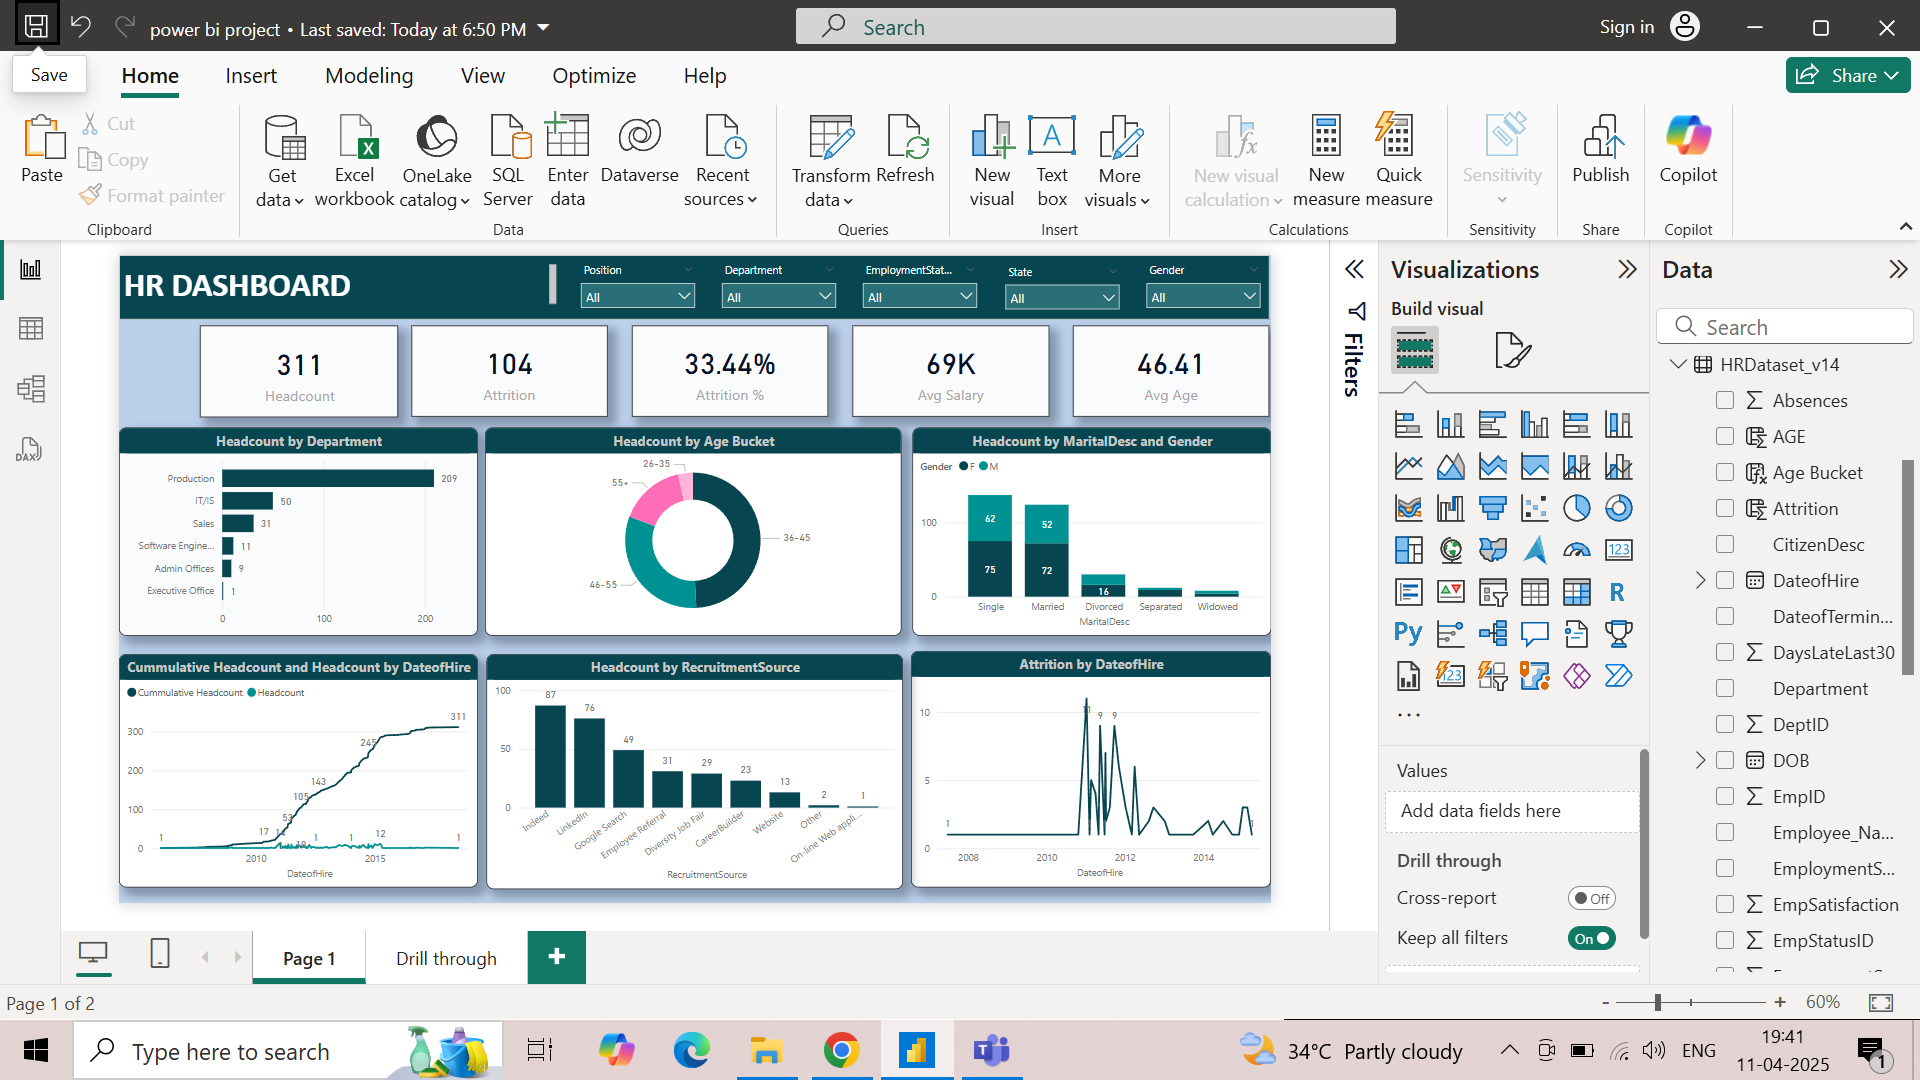

Layout of this report page (visuals, bound fields, positions):
{"tool":"powerbi","page":{"name":"Page 1","canvas":[1280,720],"ordinal":0},"visuals":[{"type":"shape","box":[0,0,1278.5,71.9],"z":0},{"type":"card","fields":{"Values":["measures (2).Headcount"]},"box":[90,78.3,220,101.7],"z":1000},{"type":"card","fields":{"Values":["measures (2).Attrition"]},"box":[325.7,79.1,218,101.6],"z":2000},{"type":"card","fields":{"Values":["measures (2).Attrition %"]},"box":[570.1,79.1,218,101],"z":3000},{"type":"card","fields":{"Values":["measures (2).Avg Salary"]},"box":[814.5,79.1,218.8,101.6],"z":4000},{"type":"card","fields":{"Values":["measures (2).Avg Age"]},"box":[1059.7,79.1,218,101],"z":5000},{"type":"clusteredBarChart","fields":{"Y":["measures (2).Headcount"],"Category":["HRDataset_v14.Department"]},"box":[0,191.8,398.6,231.3],"z":6000},{"type":"donutChart","fields":{"Y":["measures (2).Headcount"],"Category":["HRDataset_v14.Age Bucket"]},"box":[406.4,191.8,462.6,231.3],"z":7000},{"type":"columnChart","fields":{"Category":["HRDataset_v14.MaritalDesc"],"Y":["measures (2).Headcount"],"Series":["HRDataset_v14.Gender"]},"box":[881.4,191.8,398.6,231.3],"z":8000},{"type":"lineChart","fields":{"Y":["measures (2).Cummulative Headcount","measures (2).Headcount"],"Category":["HRDataset_v14.DateofHire"]},"box":[0,443.9,398.6,259.5],"z":9000},{"type":"lineChart","fields":{"Y":["measures (2).Attrition"],"Category":["HRDataset_v14.DateofHire"]},"box":[879.9,440.8,400.1,262.6],"z":10000},{"type":"columnChart","fields":{"Y":["measures (2).Headcount"],"Category":["HRDataset_v14.RecruitmentSource"]},"box":[407.9,443.5,462.6,261],"z":11000},{"type":"slicer","fields":{"Values":["HRDataset_v14.Department"]},"box":[660.4,3.1,146.9,56.3],"z":12000},{"type":"slicer","fields":{"Values":["HRDataset_v14.Position"]},"box":[503.3,3.1,146.9,56.3],"z":13000},{"type":"slicer","fields":{"Values":["HRDataset_v14.EmploymentStatus"]},"box":[817.4,3.1,146.9,56.3],"z":14000},{"type":"slicer","fields":{"Values":["HRDataset_v14.Gender"]},"box":[1131.6,4,146.9,56.3],"z":15000},{"type":"slicer","fields":{"Values":["HRDataset_v14.State"]},"box":[975.3,4.7,146.9,56.3],"z":16000},{"type":"textbox","box":[0,4.7,490.8,54.7],"z":17000}]}

Visuals, with their boxes on the page's 1280x720 design canvas (x1, y1, x2, y2). These are canvas units, not pixel positions in the 1920x1080 screenshot, which may show the page scaled, cropped or inside an application window:
shape: {"x1": 0, "y1": 0, "x2": 1278, "y2": 72}
card - measures (2).Headcount: {"x1": 90, "y1": 78, "x2": 310, "y2": 180}
card - measures (2).Attrition: {"x1": 326, "y1": 79, "x2": 544, "y2": 181}
card - measures (2).Attrition %: {"x1": 570, "y1": 79, "x2": 788, "y2": 180}
card - measures (2).Avg Salary: {"x1": 814, "y1": 79, "x2": 1033, "y2": 181}
card - measures (2).Avg Age: {"x1": 1060, "y1": 79, "x2": 1278, "y2": 180}
clusteredBarChart - measures (2).Headcount x HRDataset_v14.Department: {"x1": 0, "y1": 192, "x2": 399, "y2": 423}
donutChart - measures (2).Headcount x HRDataset_v14.Age Bucket: {"x1": 406, "y1": 192, "x2": 869, "y2": 423}
columnChart - HRDataset_v14.MaritalDesc x measures (2).Headcount: {"x1": 881, "y1": 192, "x2": 1280, "y2": 423}
lineChart - measures (2).Cummulative Headcount x measures (2).Headcount: {"x1": 0, "y1": 444, "x2": 399, "y2": 703}
lineChart - measures (2).Attrition x HRDataset_v14.DateofHire: {"x1": 880, "y1": 441, "x2": 1280, "y2": 703}
columnChart - measures (2).Headcount x HRDataset_v14.RecruitmentSource: {"x1": 408, "y1": 444, "x2": 870, "y2": 704}
slicer - HRDataset_v14.Department: {"x1": 660, "y1": 3, "x2": 807, "y2": 59}
slicer - HRDataset_v14.Position: {"x1": 503, "y1": 3, "x2": 650, "y2": 59}
slicer - HRDataset_v14.EmploymentStatus: {"x1": 817, "y1": 3, "x2": 964, "y2": 59}
slicer - HRDataset_v14.Gender: {"x1": 1132, "y1": 4, "x2": 1278, "y2": 60}
slicer - HRDataset_v14.State: {"x1": 975, "y1": 5, "x2": 1122, "y2": 61}
textbox: {"x1": 0, "y1": 5, "x2": 491, "y2": 59}
